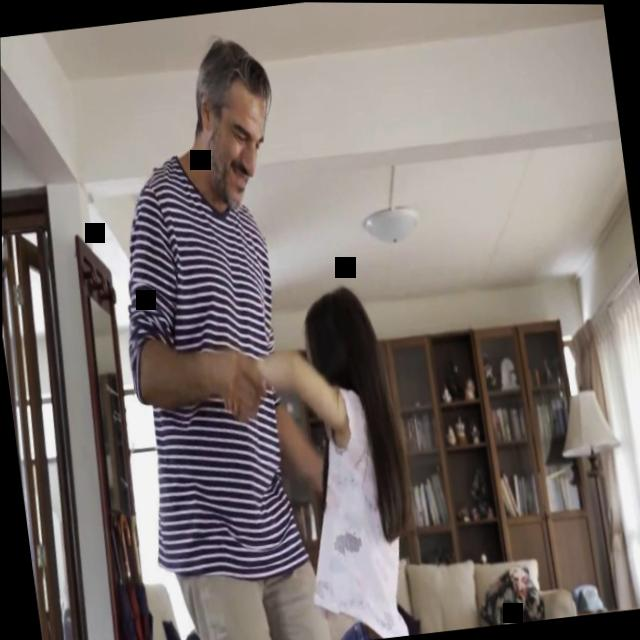NO-Mask: (201, 81, 276, 210)
